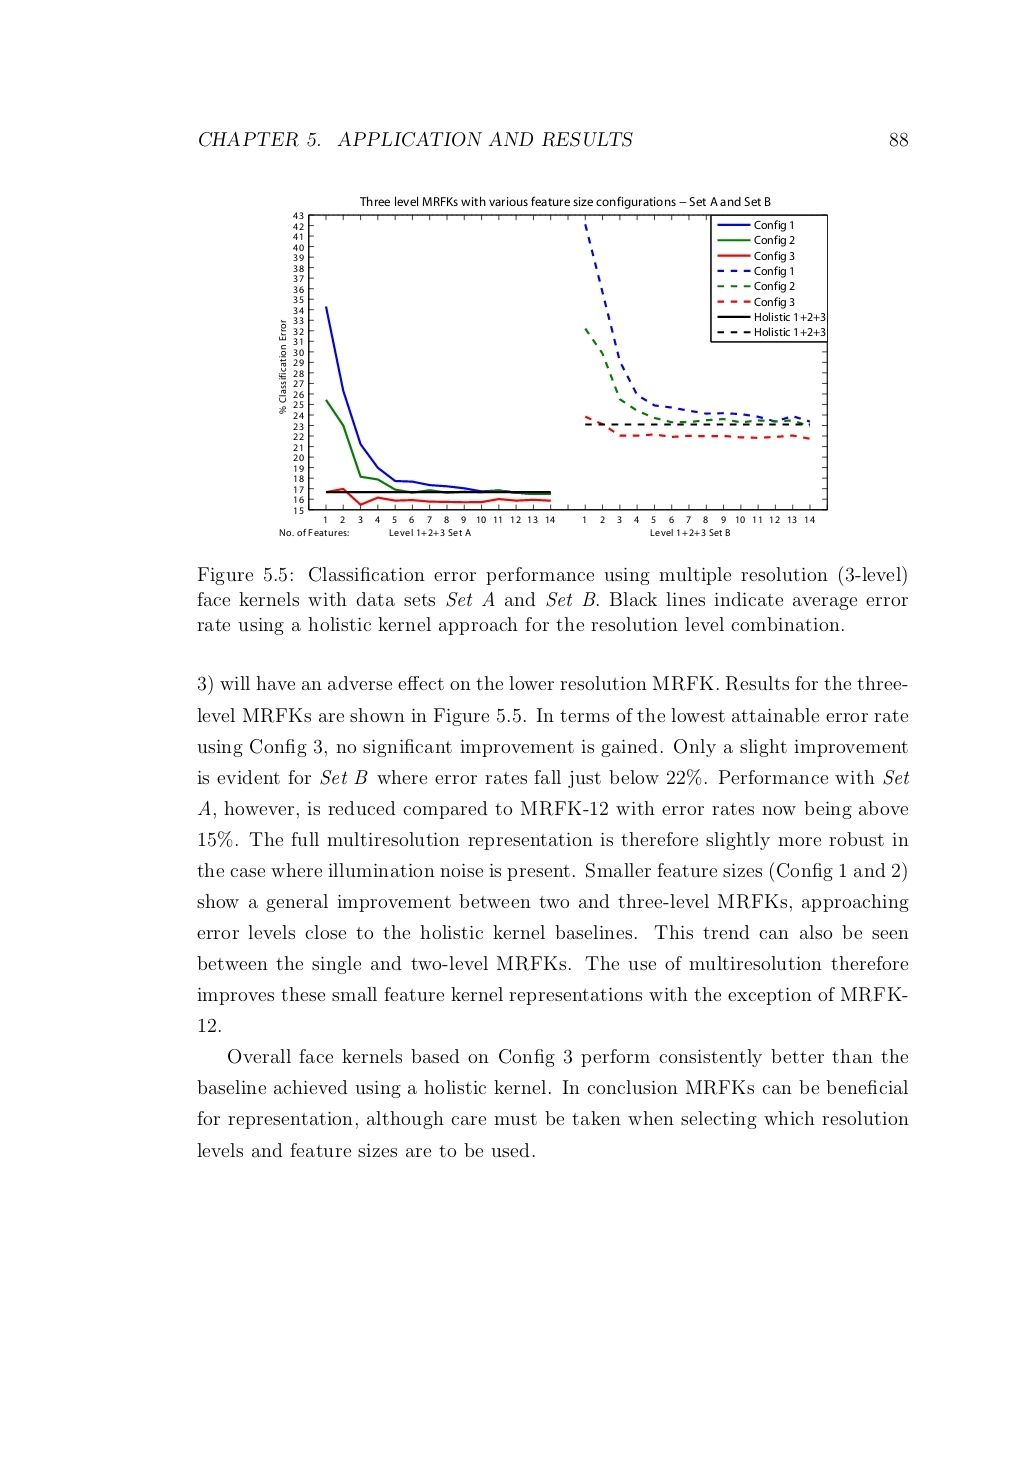figure: (278, 207, 827, 535)
